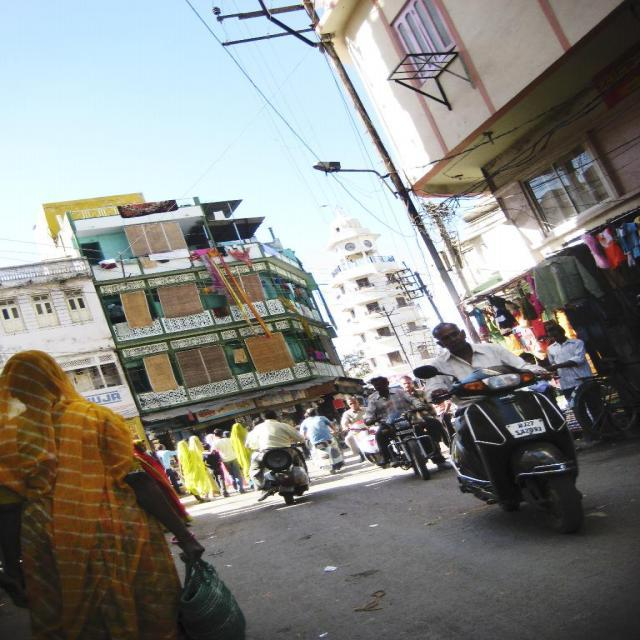bus: (454, 366, 594, 525), (353, 405, 437, 478)
